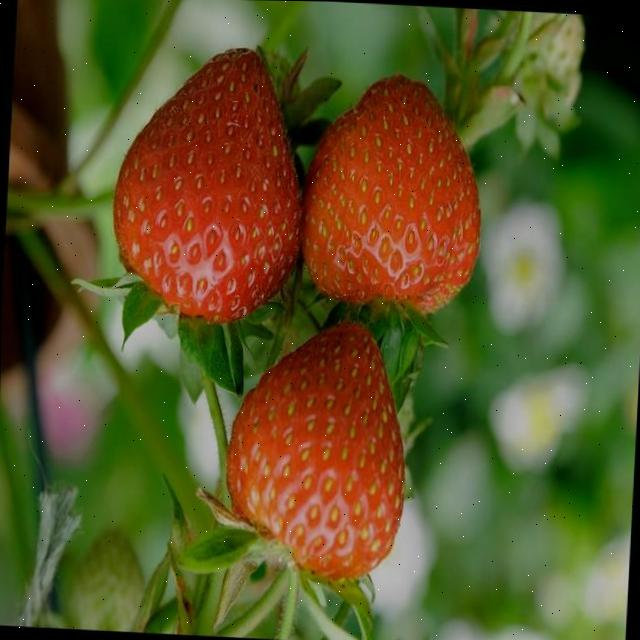strawberry: (113, 48, 297, 322), (226, 321, 403, 579), (301, 74, 479, 312)
